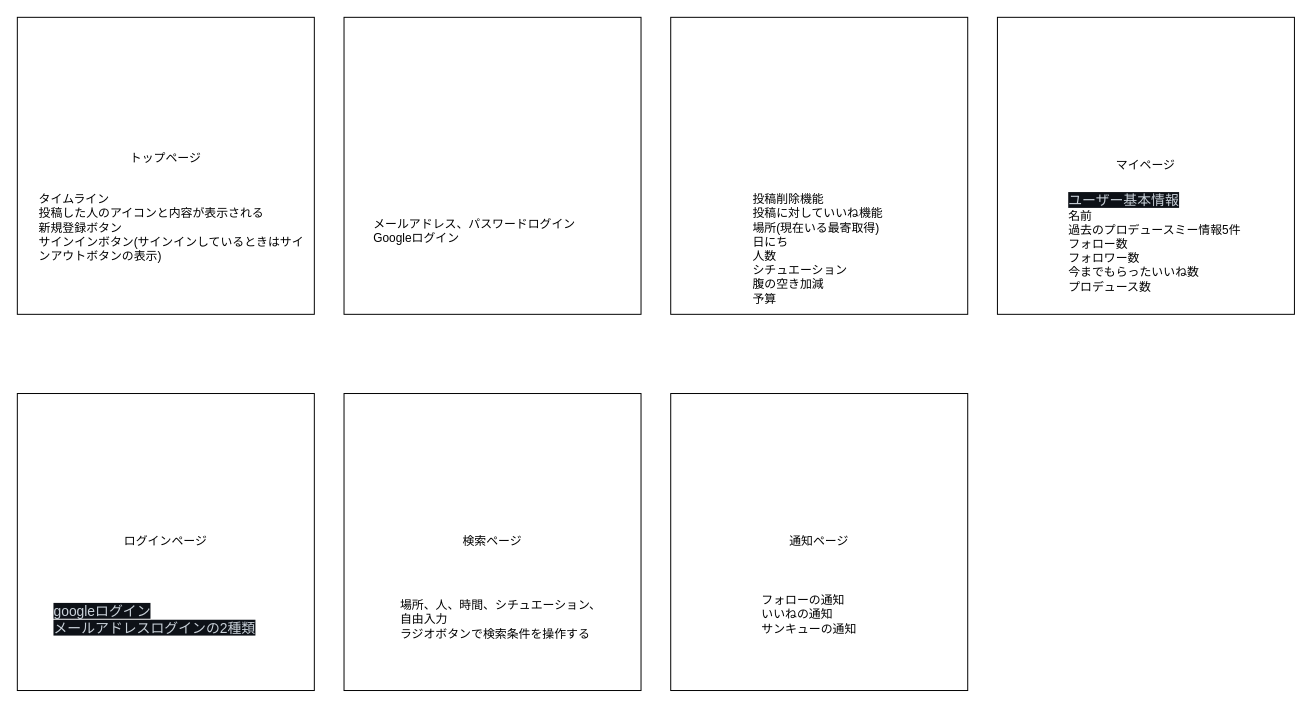
The diagram is 1312 pixels wide and 708 high, and some of its shapes have lost their labels. Here are the shapes that lost their labels. From the top down, the box of each, then its label:
(343, 16, 641, 314): 新規登録ページ
(670, 16, 968, 314): 新規投稿ページ
